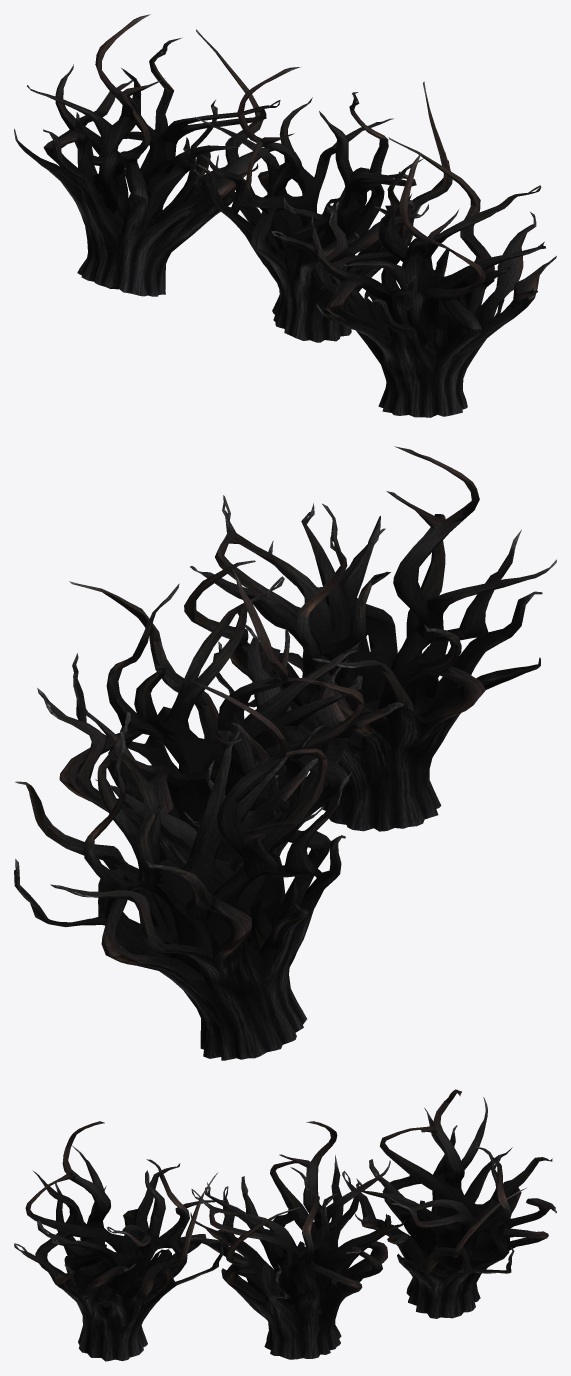
File: blocker1.glb
3 renders of one model, top to bottom at view 1: azimuth 30°, elevation 25°; view 2: azimuth 150°, elevation 25°; view 3: azimuth 270°, elevation 25°, orthographic. The views are drawn at different scales.
Visible parts, largest first — view 1: blocker1; view 2: blocker1; view 3: blocker1.
Boxes of the visible parts, x1,y1,x2,y2 form: blocker1: (14, 14, 556, 417); blocker1: (14, 446, 556, 1060); blocker1: (14, 1089, 556, 1361).
Size of what is drawn, in the model's own units: 10.44 by 8.72 by 19.13.
1 material, 1 textured.
